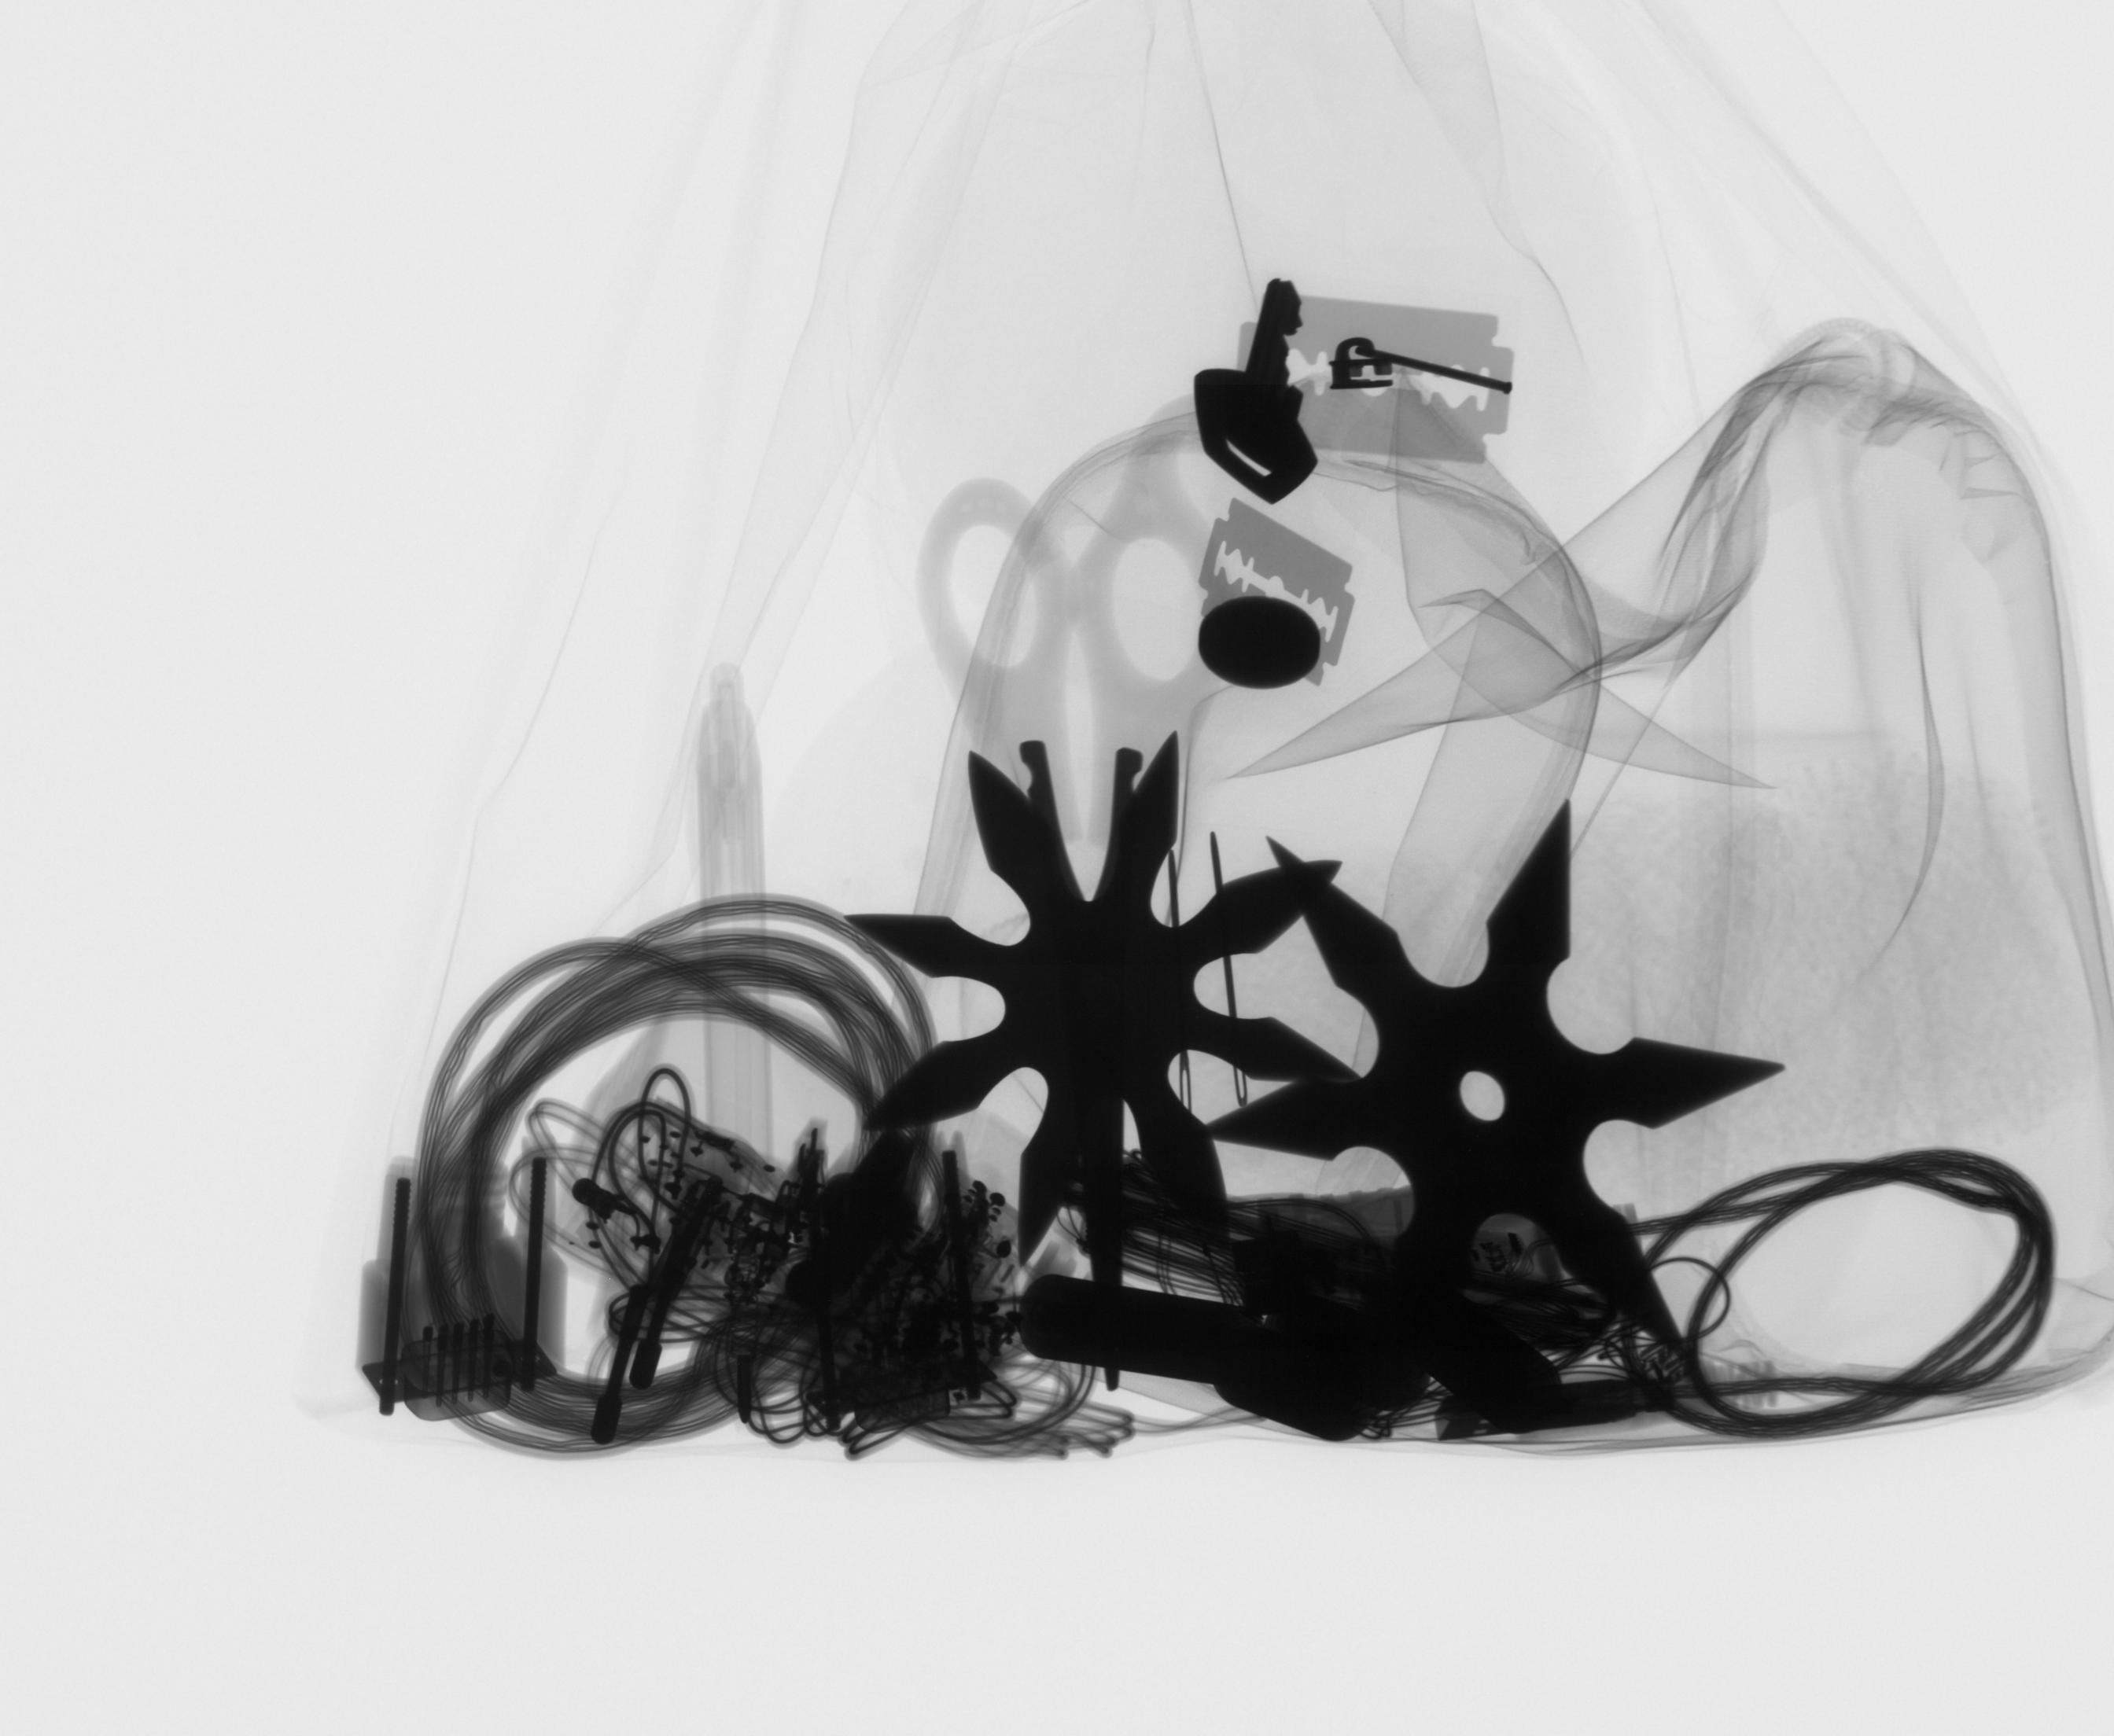RazorBlade: (1222, 283, 1524, 477), (1190, 488, 1363, 699)
Shuriken: (1190, 788, 1793, 1392), (830, 723, 1371, 1283)
